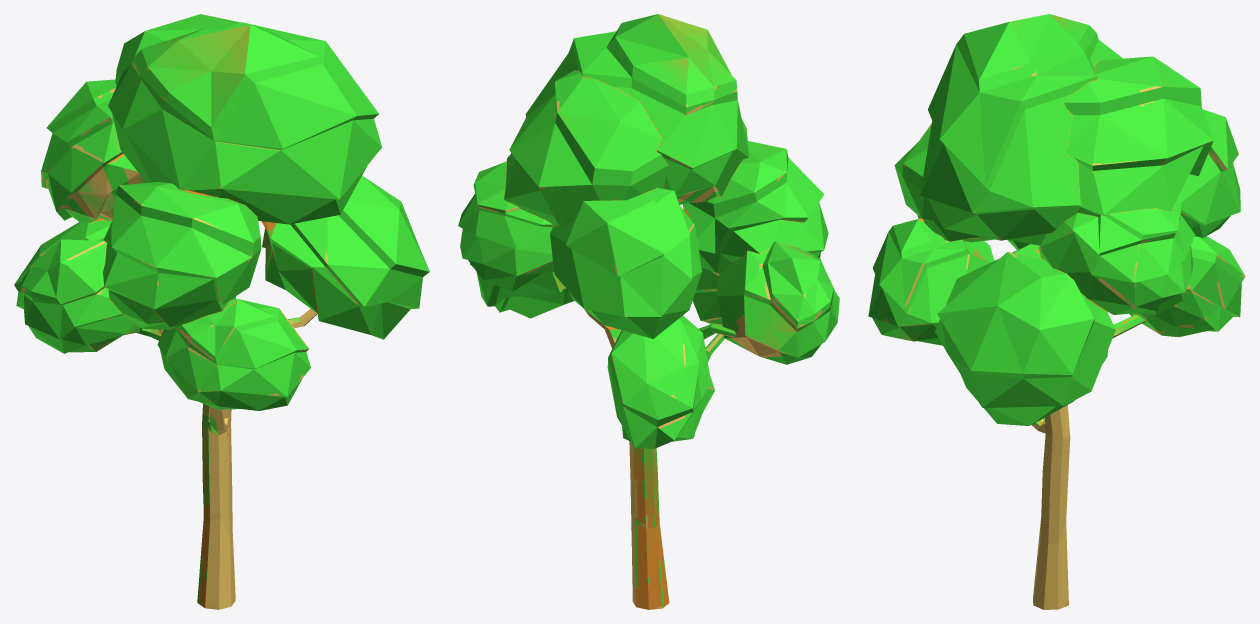
File: second.paint.glb
The picture shows the model from 3 angles, left to right: view 1: azimuth 30°, elevation 25°; view 2: azimuth 150°, elevation 25°; view 3: azimuth 270°, elevation 25°; orthographic projection. The views are drawn at different scales.
Parts seen in each view (by area): view 1: PP_Birch_Tree_06.001; view 2: PP_Birch_Tree_06.001; view 3: PP_Birch_Tree_06.001.
Part boxes in pixels (x1,y1,x2,y2): PP_Birch_Tree_06.001: (14, 14, 429, 609); PP_Birch_Tree_06.001: (458, 14, 839, 609); PP_Birch_Tree_06.001: (868, 14, 1245, 609).
Size of the model in its own units: 5.89 by 8.86 by 5.16.
1 material, 1 textured.
